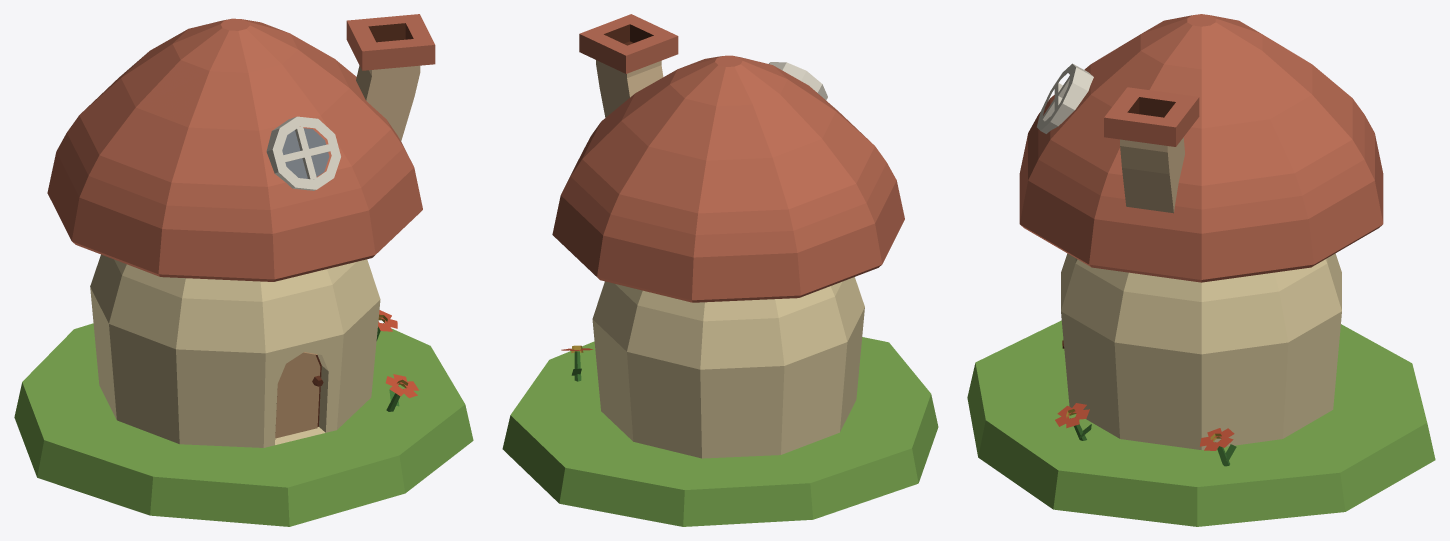
Rendered from mushroom-cottage-1135d1.glb.
3 views of the same model, side by side, from view 1: azimuth 30°, elevation 25°; view 2: azimuth 150°, elevation 25°; view 3: azimuth 270°, elevation 25° (orthographic). The views are drawn at different scales.
Visible parts, largest first — view 1: mushroom-cottage-1135d1; view 2: mushroom-cottage-1135d1; view 3: mushroom-cottage-1135d1.
Boxes of the visible parts, x1=… form: mushroom-cottage-1135d1: x1=14, y1=14, x2=473, y2=526; mushroom-cottage-1135d1: x1=502, y1=14, x2=938, y2=526; mushroom-cottage-1135d1: x1=967, y1=14, x2=1435, y2=526.
Bounding box in the file's own units: 1.4 × 1.35 × 1.4.
